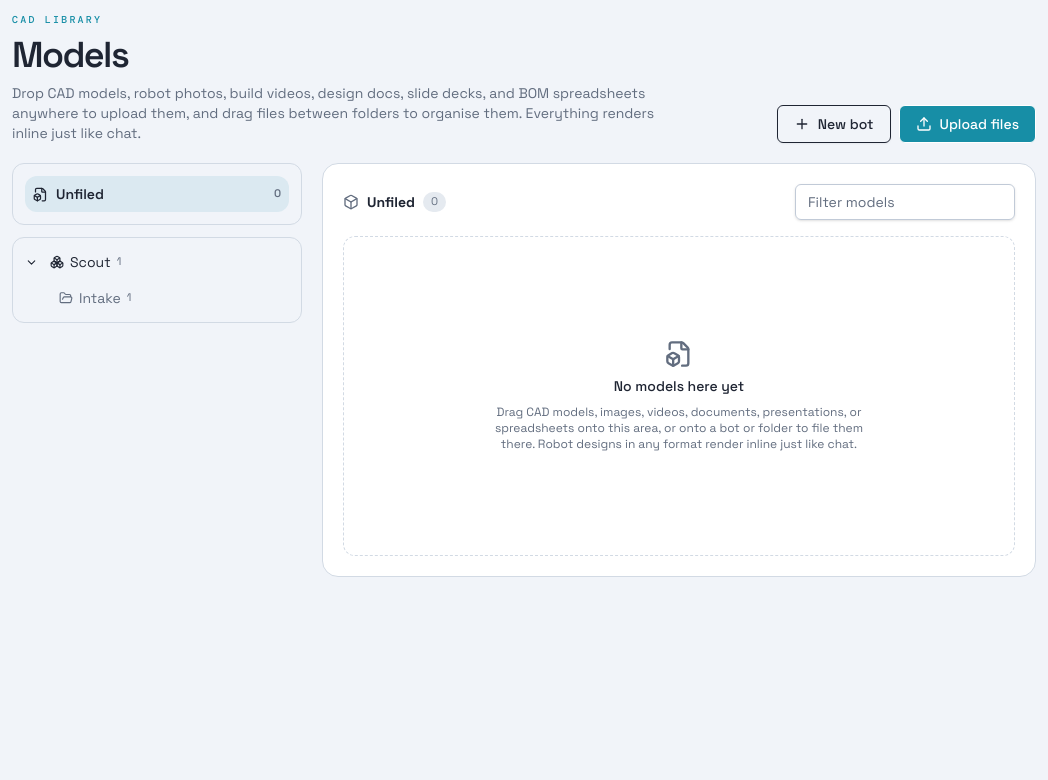
it: CAD README preview › shows a recoverable error and retries a failed protected README request
What coordinates should you click on to do the following:
click the button with test id "cad-folder-folder-intake"
I would click on:
 (136, 298)
Its box is [59, 282, 214, 314].
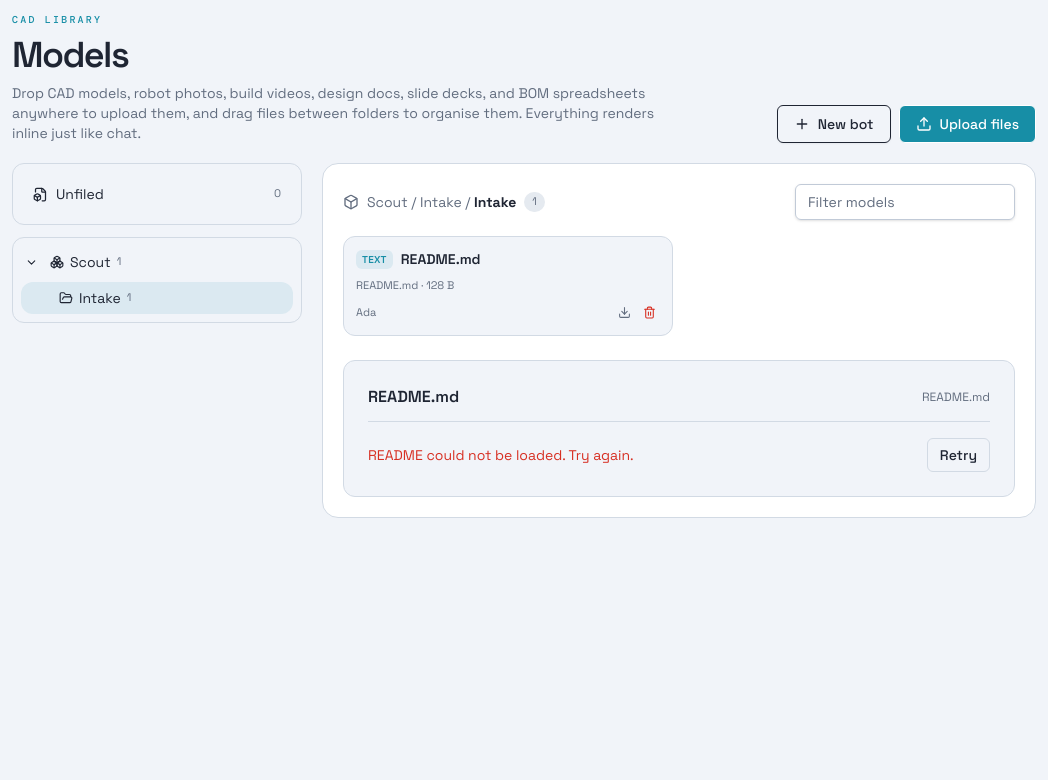
Result: the message with test id "cad-readme-error" shows "README could not be loaded" at [368, 446, 634, 464]
What coordinates should you click on to do the following:
click the button with test id "cad-readme-retry"
I would click on:
 (958, 454)
Its box is [927, 438, 990, 472].
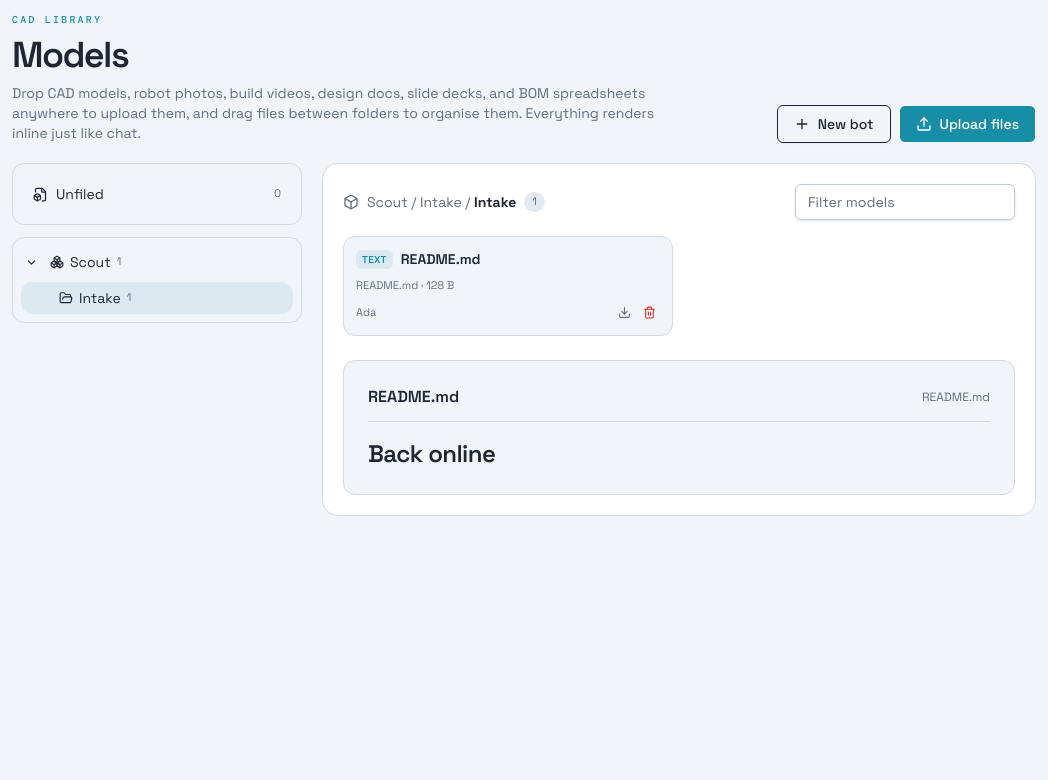
Result: the heading "Back online" is shown at [368, 438, 495, 468]
